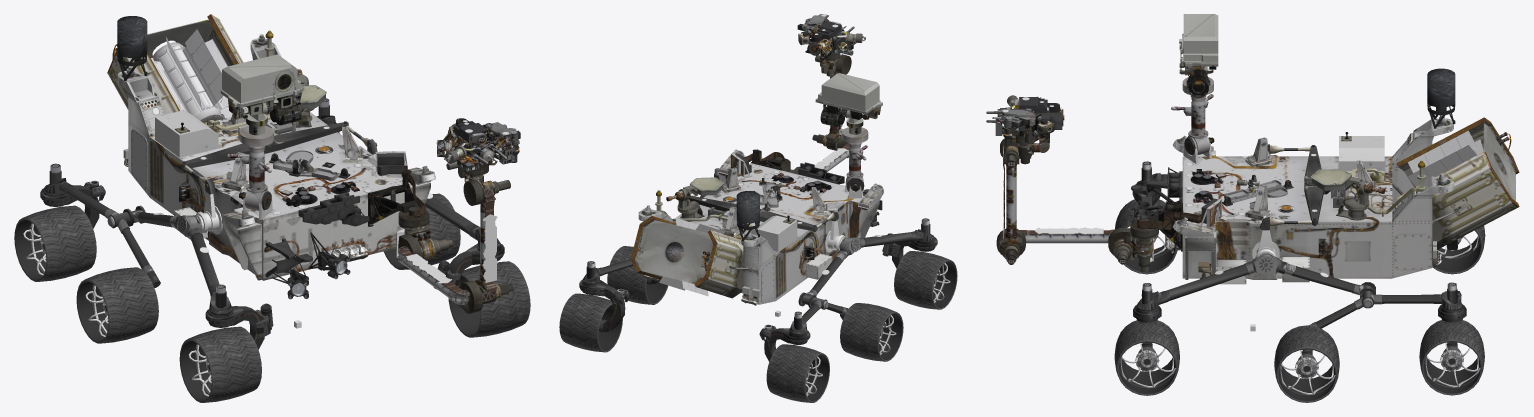
File: curiosity.glb
The picture shows the model from 3 angles, left to right: view 1: azimuth 30°, elevation 25°; view 2: azimuth 150°, elevation 25°; view 3: azimuth 270°, elevation 25°; orthographic projection. The views are drawn at different scales.
Parts seen in each view (by area): view 1: Chassis, body, wheel_03_R, wheel_02_R, wheel_01_R, RTG, wheel_01_L, ChemCam, arm_03.001, arm_02.001, radiators, suspension_arm_B2_R (+21 smaller); view 2: Chassis, body, wheel_02_R, wheel_01_R, wheel_03_R, wheel_03_L, radiators, ChemCam, wheel_02_L, suspension_steer_B_L, RTG, antenna_UHF (+19 smaller); view 3: Chassis, body, radiators, wheel_02_L, wheel_03_L, wheel_01_L, ChemCam, suspension_arm_B2_L, arm_02.001, RTG, suspension_arm_F_L, arm_03.001 (+16 smaller).
Part boxes in pixels (x1,y1,x2,y2): Chassis: (117,38,435,280); body: (112,19,430,299); wheel_03_R: (14,205,96,281); wheel_02_R: (76,267,158,343); wheel_01_R: (179,326,261,402); RTG: (151,29,232,122); wheel_01_L: (448,261,530,337); ChemCam: (220,54,304,107); arm_03.001: (463,179,510,301); arm_02.001: (398,246,514,313); radiators: (107,14,243,114); suspension_arm_B2_R: (44,163,160,287); Chassis: (638,150,883,304); body: (635,149,882,283); wheel_02_R: (840,303,903,361); wheel_01_R: (894,251,957,309); wheel_03_R: (766,344,829,402); wheel_03_L: (559,293,622,352); radiators: (630,216,743,298); ChemCam: (815,73,882,114); wheel_02_L: (607,246,668,304); suspension_steer_B_L: (579,280,629,331); RTG: (659,218,724,296); antenna_UHF: (736,191,759,241); Chassis: (1172,118,1453,279); body: (1131,115,1515,284); radiators: (1396,117,1519,252); wheel_02_L: (1274,325,1339,402); wheel_03_L: (1419,320,1484,395); wheel_01_L: (1114,320,1179,395); ChemCam: (1180,14,1218,66); suspension_arm_B2_L: (1302,282,1462,351); arm_02.001: (996,227,1114,264); RTG: (1407,130,1500,186); suspension_arm_F_L: (1136,254,1274,311); arm_03.001: (999,138,1022,250).
Size of the model in its own units: 2.11 by 1.71 by 3.
Materials: 10 (7 with a texture image).
